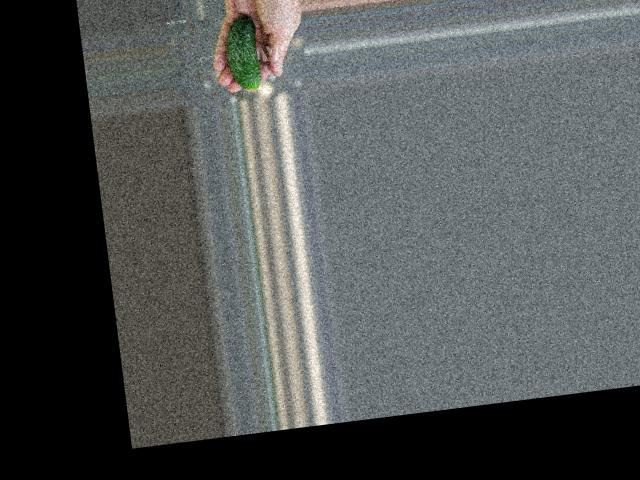cucumber: (221, 14, 262, 91)
